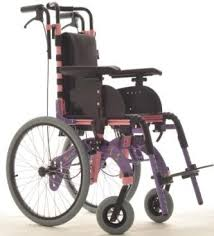wheelchair: (7, 5, 202, 233)
